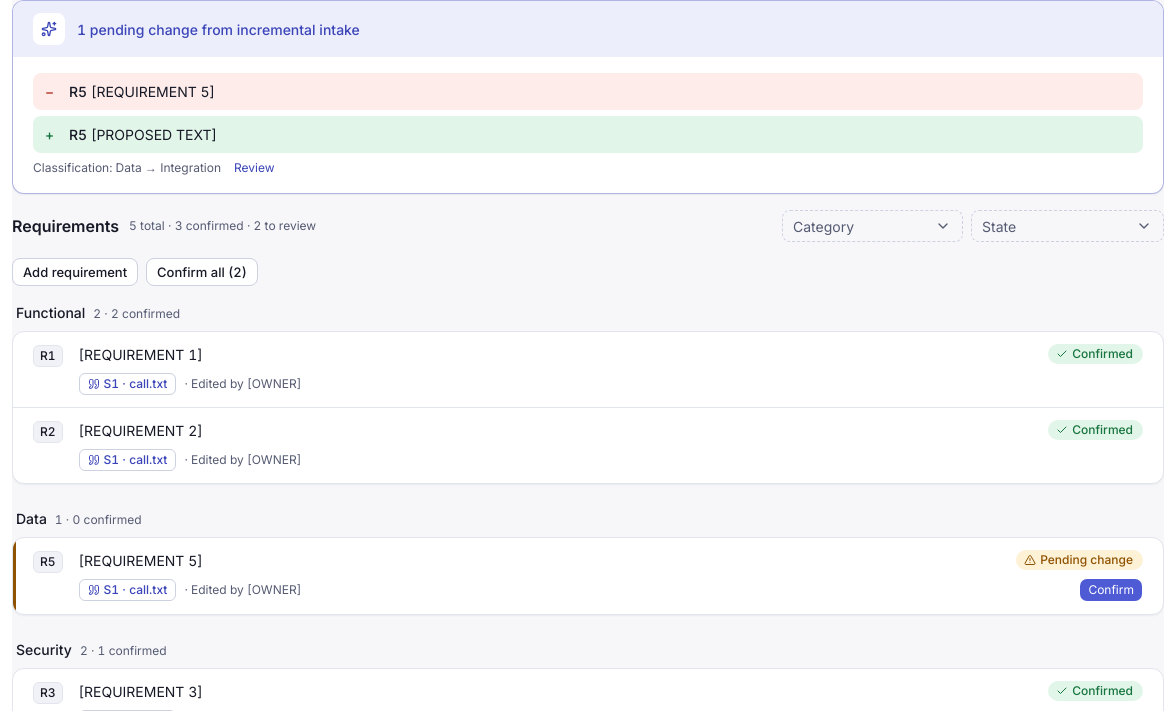
Test case: the redesigned tab › the banner's Review opens that Requirement in the inspector, with Accept and Reject
The width and height of the screenshot is (1176, 711).
What coordinates should you click on to do the following:
click the button with aria-label "Review R5"
I would click on:
 (254, 168)
Its box is x1=233 y1=159 x2=276 y2=177.
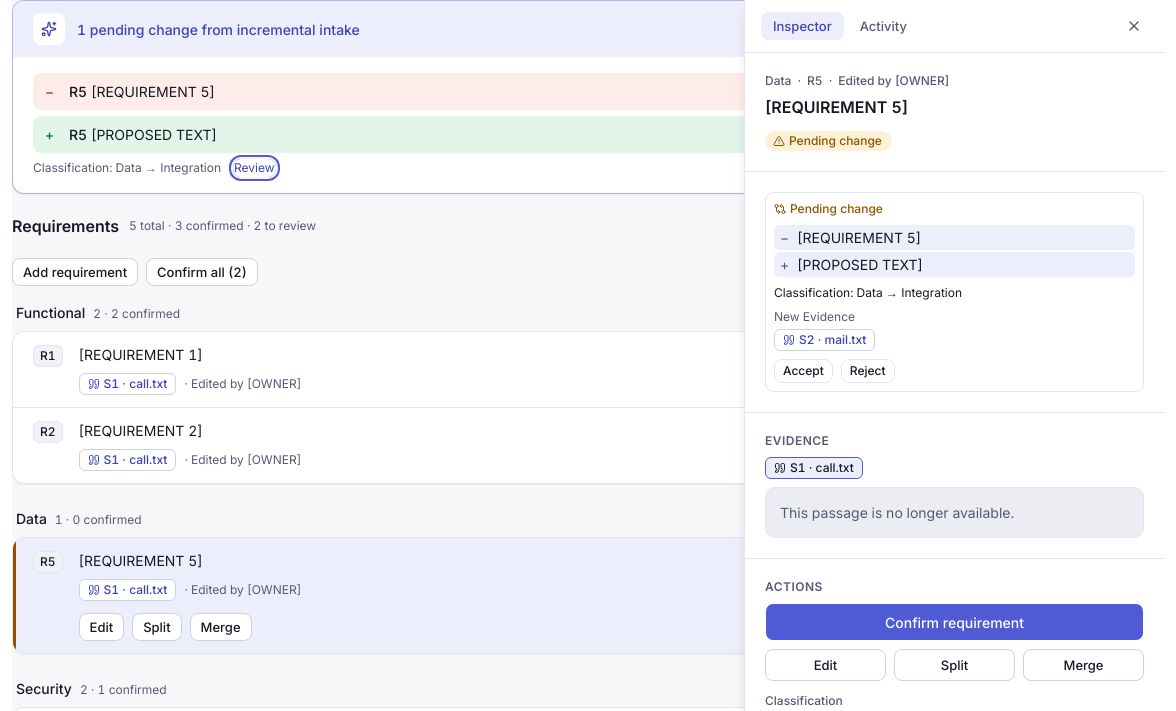
expect the heading "[REQUIREMENT 5]" is shown: met, box x1=765 y1=97 x2=908 y2=117
expect the button "Accept" is shown: met, box x1=774 y1=359 x2=833 y2=383
expect the button "Reject" is shown: met, box x1=841 y1=359 x2=895 y2=383
